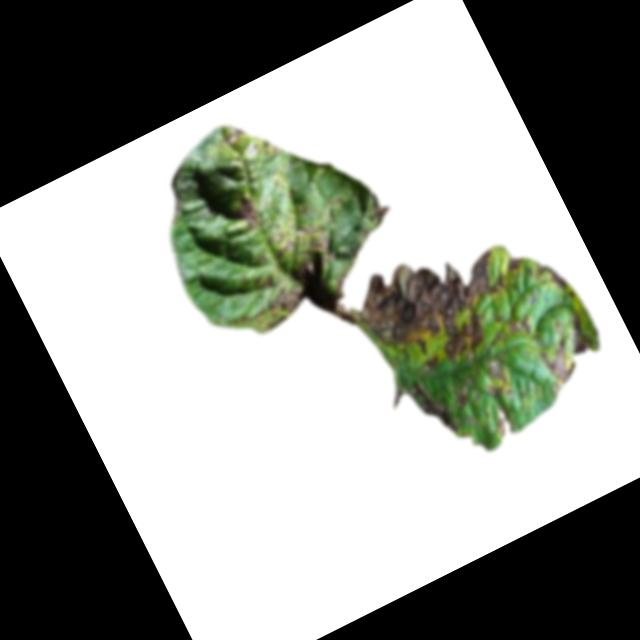Early_blight: (346, 219, 534, 394), (212, 210, 358, 337), (386, 373, 462, 453), (533, 333, 583, 392), (556, 306, 598, 357), (543, 256, 577, 303), (446, 373, 484, 413), (228, 192, 264, 234), (485, 401, 521, 441), (483, 352, 513, 388), (505, 312, 537, 342), (504, 252, 526, 272), (484, 380, 504, 400), (221, 126, 240, 146)
